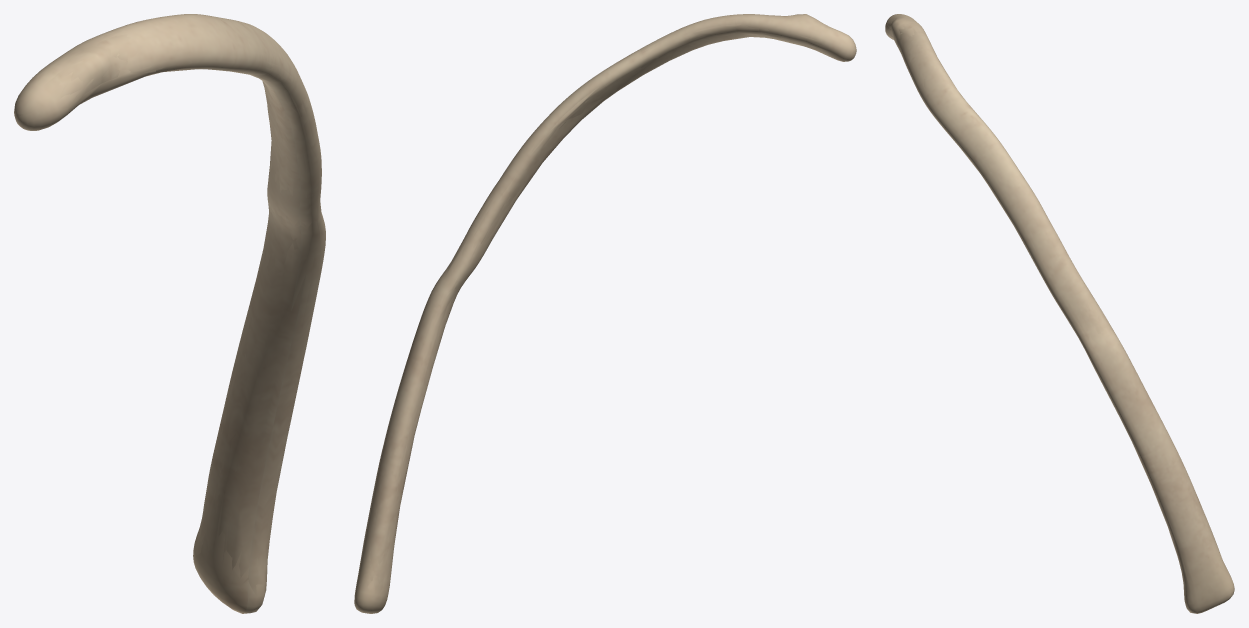
The model's file is Rib L10.fbx.
The picture shows the model from 3 angles, left to right: view 1: azimuth 30°, elevation 25°; view 2: azimuth 150°, elevation 25°; view 3: azimuth 270°, elevation 25°; orthographic projection. The views are drawn at different scales.
Parts seen in each view (by area): view 1: Rib L10 low, Rib L10, Rib L10 high; view 2: Rib L10 high, Rib L10, Rib L10 low; view 3: Rib L10 high, Rib L10, Rib L10 low.
Part boxes in pixels (left/top/right/bottom): Rib L10 low: left=50, top=34, right=321, bottom=578; Rib L10: left=14, top=14, right=325, bottom=613; Rib L10 high: left=14, top=14, right=325, bottom=613; Rib L10 high: left=355, top=14, right=856, bottom=613; Rib L10: left=354, top=14, right=856, bottom=613; Rib L10 low: left=360, top=15, right=831, bottom=583; Rib L10 high: left=885, top=14, right=1232, bottom=613; Rib L10: left=885, top=14, right=1234, bottom=613; Rib L10 low: left=888, top=16, right=1226, bottom=590.
Bounding box in the file's own units: 14.85 × 23.67 × 15.67.
